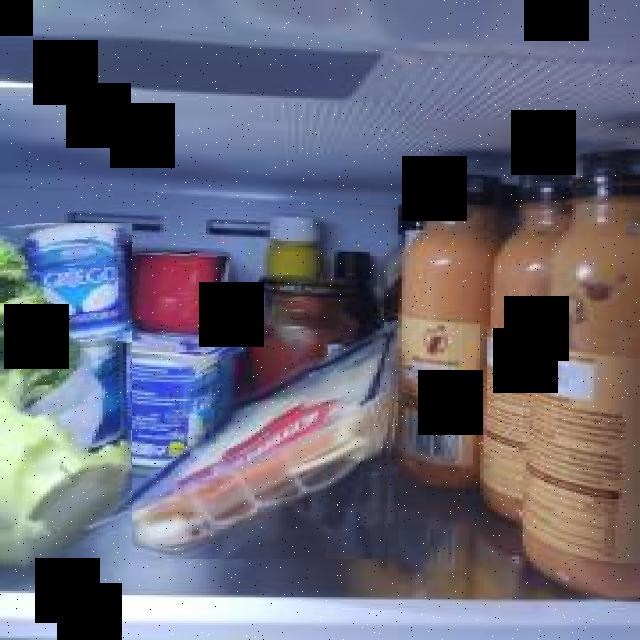broccoli: (0, 238, 132, 575)
cheese: (80, 320, 400, 559)
tomato_sauce: (244, 280, 354, 415)
yogurt: (116, 331, 254, 469), (10, 223, 132, 342), (123, 248, 240, 337), (78, 344, 124, 458)
